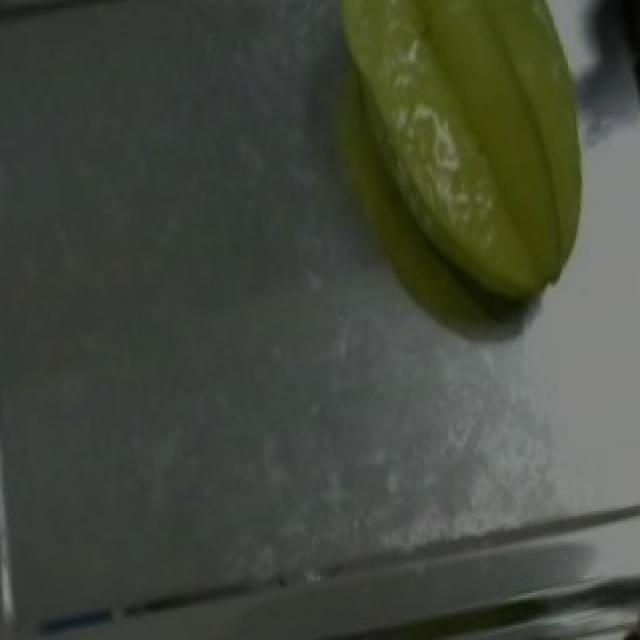fruit: (306, 0, 640, 322)
